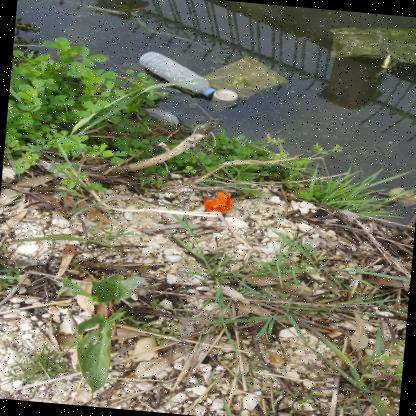Clear plastic bottle: (139, 52, 216, 98)
Drink can: (211, 90, 238, 106)
Other plastic: (203, 56, 289, 100), (328, 27, 416, 65), (203, 192, 231, 218)
Other plastic bottle: (150, 143, 164, 151)
Plastic bottle cap: (205, 89, 216, 98)
